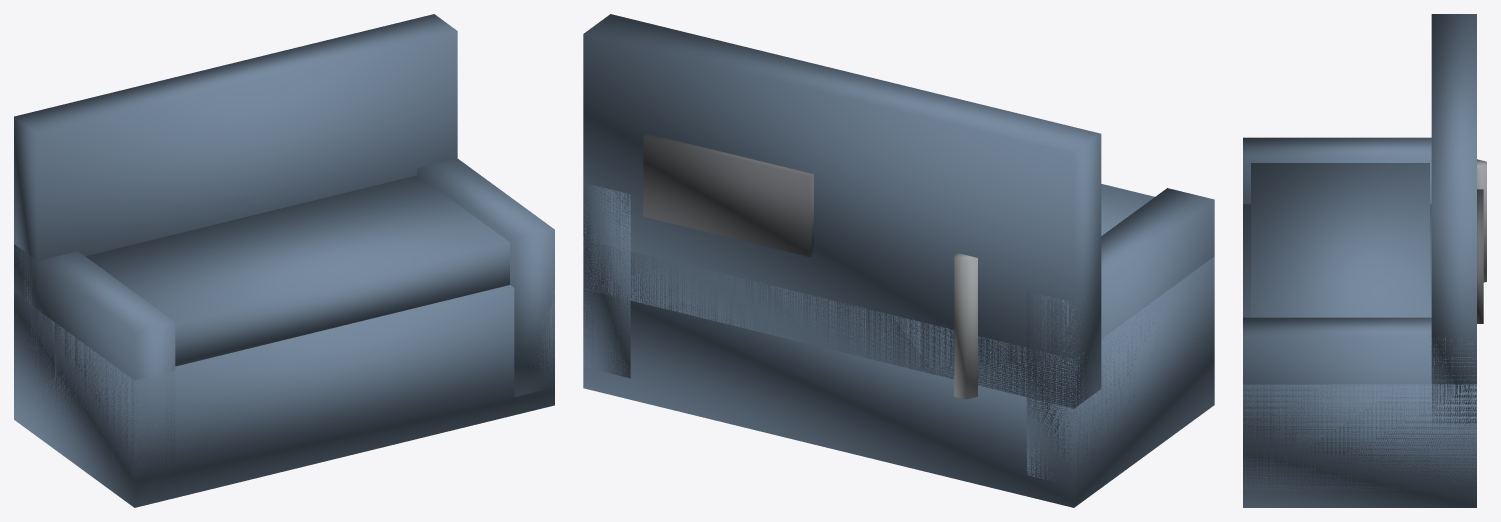
Rendered from loveseat__service.glb.
3 renders of one model, left to right at view 1: azimuth 30°, elevation 25°; view 2: azimuth 150°, elevation 25°; view 3: azimuth 270°, elevation 25°, orthographic. The views are drawn at different scales.
Parts seen in each view (by area): view 1: world; view 2: world; view 3: world.
Part boxes in pixels (bbox=[...]): world: bbox=[14, 14, 554, 507]; world: bbox=[583, 14, 1214, 507]; world: bbox=[1243, 14, 1486, 507].
Bounding box in the file's own units: 1.45 × 1.03 × 0.7503.
